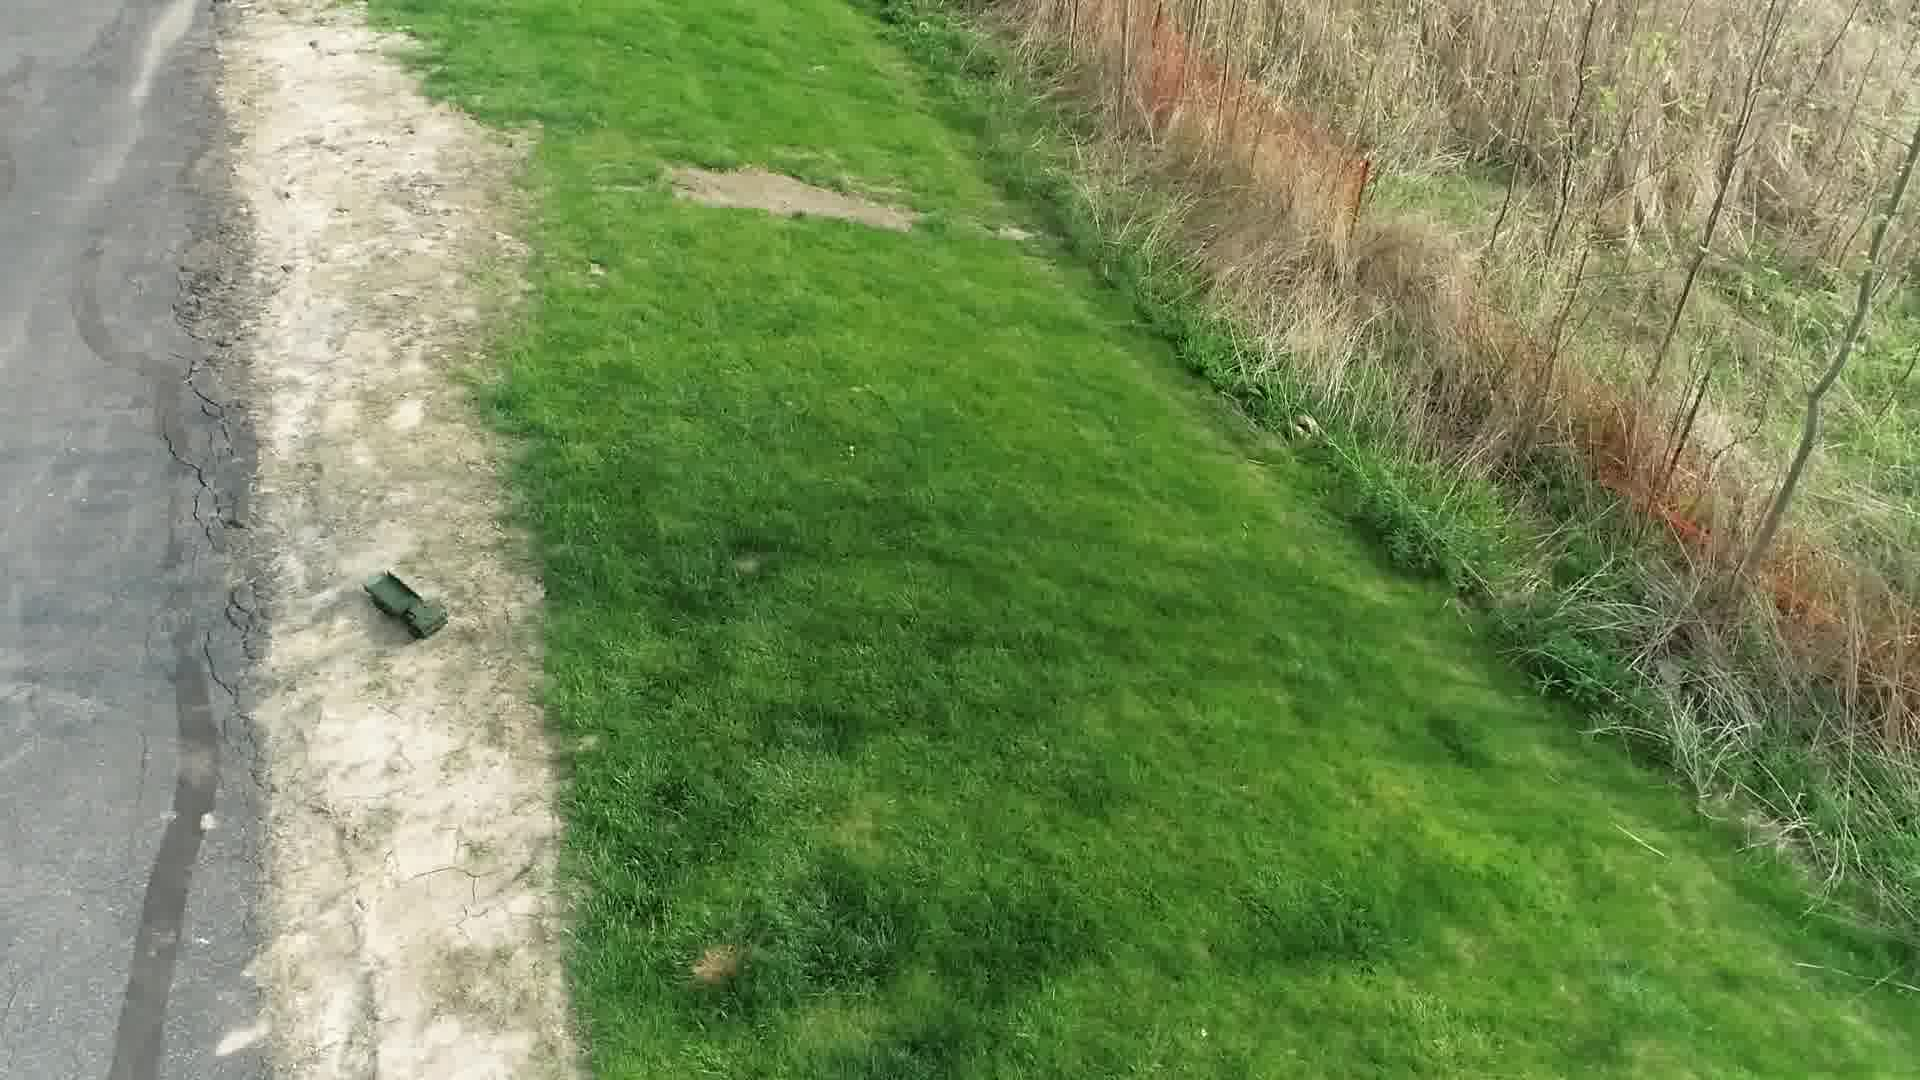transporter9: (359, 564, 450, 641)
